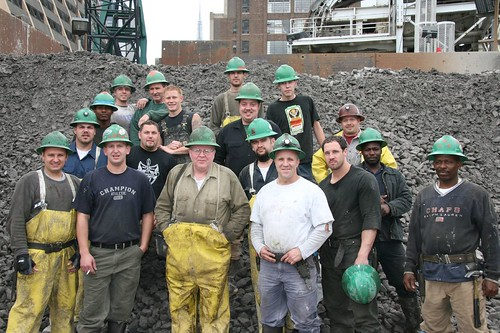hardhat: (338, 262, 384, 306)
person hardhat: (406, 130, 500, 333), (249, 134, 332, 332), (160, 127, 236, 333), (79, 129, 152, 333), (10, 131, 83, 332), (357, 129, 419, 332), (310, 107, 398, 183), (269, 62, 326, 171), (215, 83, 284, 169), (213, 57, 262, 125), (239, 120, 280, 194), (66, 110, 106, 181), (108, 67, 148, 133), (133, 63, 174, 126), (89, 86, 121, 150)
